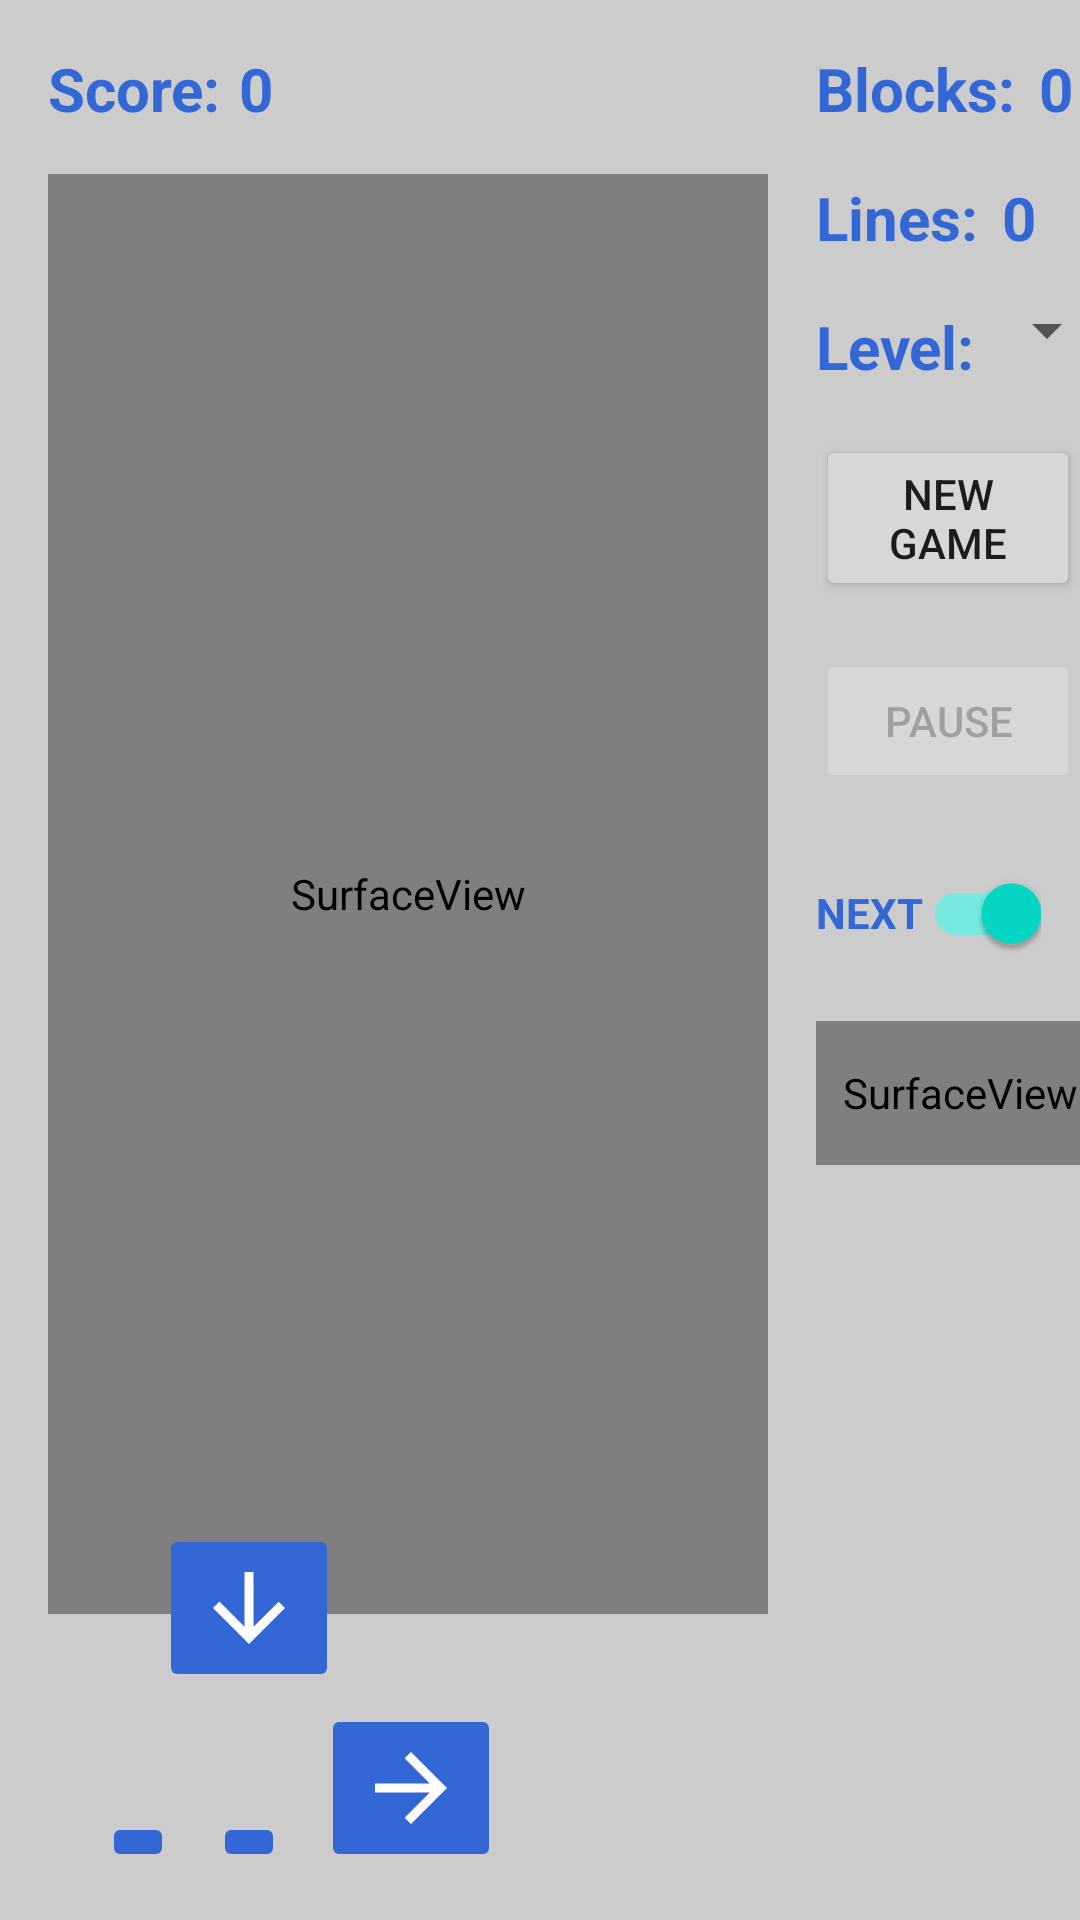

Where to tap for icons on this 1080 x 1920 app screen, as (x=x, y=y):
Drop: (x=249, y=1608)
Right: (x=411, y=1788)
